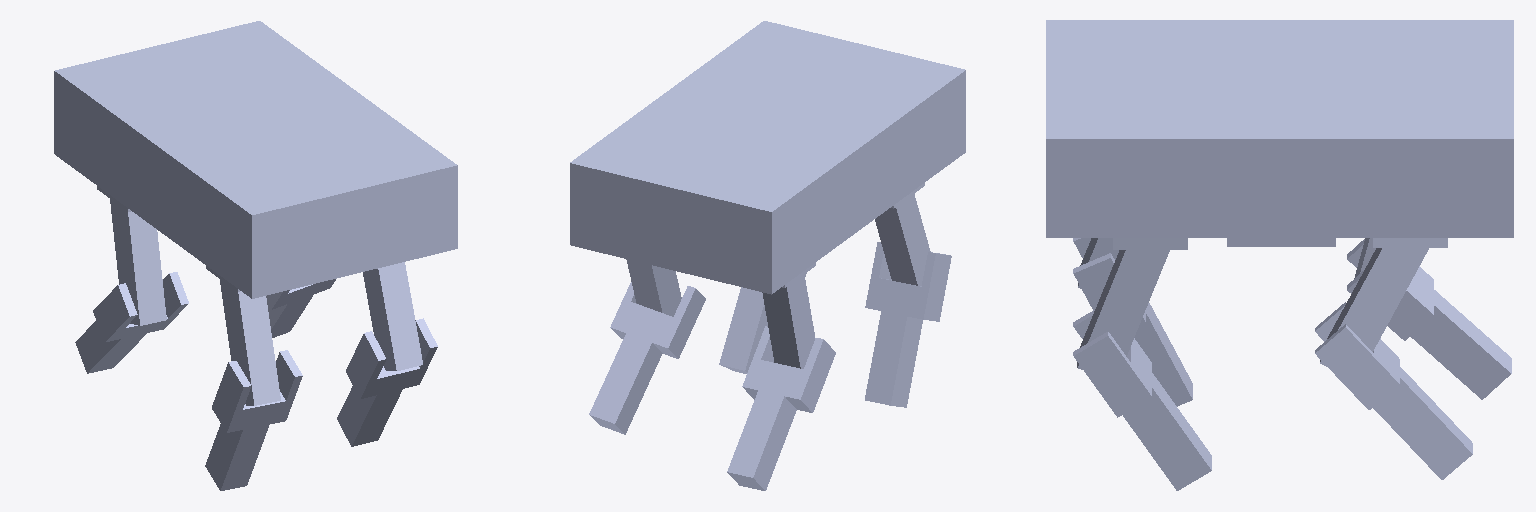
robot.urdf — robodog_urdf_collsion:
<?xml version="1.0" encoding="utf-8"?>
<!-- This URDF was automatically created by SolidWorks to URDF Exporter! Originally created by Stephen Brawner (brawner@gmail.com) 
     Commit Version: 1.6.0-4-g7f85cfe  Build Version: 1.6.7995.38578
     For more information, please see http://wiki.ros.org/sw_urdf_exporter -->
<robot
  name="robodog_urdf_collsion">
  <link
    name="Body">
    <inertial>
      <origin
        xyz="0.656315042885753 -1.42698788199037 0.96788826805334"
        rpy="0 0 0" />
      <mass
        value="13.33899" />
      <inertia
        ixx="0.230495999462513"
        ixy="7.89216602019238E-18"
        ixz="-6.54965176057633E-17"
        iyy="0.0931566012378579"
        iyz="6.00632234449707E-05"
        izz="0.294297217284655" />
    </inertial>
    <visual>
      <origin
        xyz="0 0 0"
        rpy="0 0 0" />
      <geometry>
        <mesh
          filename="package://robodog_urdf_collsion/meshes/Body.STL" />
      </geometry>
      <material
        name="">
        <color
          rgba="0.792156862745098 0.819607843137255 0.933333333333333 1" />
      </material>
    </visual>
    <collision>
      <origin
        xyz="0 0 0"
        rpy="0 0 0" />
      <geometry>
        <mesh
          filename="package://robodog_urdf_collsion/meshes/Body.STL" />
      </geometry>
    </collision>
  </link>
  <link
    name="LFshoulder">
    <inertial>
      <origin
        xyz="0.0128672643304147 0.000589435019002993 -0.051025000000001"
        rpy="0 0 0" />
      <mass
        value="0.489167999999999" />
      <inertia
        ixx="0.000465728699999998"
        ixy="6.92872950854018E-19"
        ixz="1.06626525887818E-19"
        iyy="0.000512811119999998"
        iyz="-1.82703620986546E-20"
        izz="0.000555898667999999" />
    </inertial>
    <visual>
      <origin
        xyz="0 0 0"
        rpy="0 0 0" />
      <geometry>
        <mesh
          filename="package://robodog_urdf_collsion/meshes/LFshoulder.STL" />
      </geometry>
      <material
        name="">
        <color
          rgba="0.792156862745098 0.819607843137255 0.933333333333333 1" />
      </material>
    </visual>
    <collision>
      <origin
        xyz="0 0 0"
        rpy="0 0 0" />
      <geometry>
        <mesh
          filename="package://robodog_urdf_collsion/meshes/LFshoulder.STL" />
      </geometry>
    </collision>
  </link>
  <joint
    name="LFshoulder1"
    type="revolute">
    <origin
      xyz="0.570945900830936 -1.35287827187371 0.934826982453758"
      rpy="1.5707963267949 0.0196982875803658 0" />
    <parent
      link="Body" />
    <child
      link="LFshoulder" />
    <axis
      xyz="0 0 1" />
    <limit
      lower="0"
      upper="3.1416"
      effort="100"
      velocity="2" />
  </joint>
  <link
    name="LFthigh">
    <inertial>
      <origin
        xyz="0.0254982854849833 -0.0688899494168162 -0.00389601324933975"
        rpy="0 0 0" />
      <mass
        value="0.2492" />
      <inertia
        ixx="0.000691197733333334"
        ixy="2.85960101617547E-17"
        ixz="1.70595341171479E-18"
        iyy="6.060295152346E-05"
        iyz="-3.47340080402073E-05"
        izz="0.000681473115143207" />
    </inertial>
    <visual>
      <origin
        xyz="0 0 0"
        rpy="0 0 0" />
      <geometry>
        <mesh
          filename="package://robodog_urdf_collsion/meshes/LFthigh.STL" />
      </geometry>
      <material
        name="">
        <color
          rgba="0.792156862745098 0.819607843137255 0.933333333333333 1" />
      </material>
    </visual>
    <collision>
      <origin
        xyz="0 0 0"
        rpy="0 0 0" />
      <geometry>
        <mesh
          filename="package://robodog_urdf_collsion/meshes/LFthigh.STL" />
      </geometry>
    </collision>
  </link>
  <joint
    name="LFshoulder"
    type="revolute">
    <origin
      xyz="-0.0301327296909215 -0.0274329941609744 -0.0544198791454942"
      rpy="-0.299813417529854 0 0" />
    <parent
      link="LFshoulder" />
    <child
      link="LFthigh" />
    <axis
      xyz="1 0 0" />
    <limit
      lower="0"
      upper="3.1416"
      effort="100"
      velocity="2" />
  </joint>
  <link
    name="LFcalf">
    <inertial>
      <origin
        xyz="0.0380257143547983 -0.0706643728174936 -3.90287802076728E-12"
        rpy="0 0 0" />
      <mass
        value="0.29688" />
      <inertia
        ixx="0.000707381737330648"
        ixy="-7.67749701874431E-06"
        ixz="-4.63910310211405E-16"
        iyy="0.00015277031938722"
        iyz="-3.38214428251965E-14"
        izz="0.000780984056717867" />
    </inertial>
    <visual>
      <origin
        xyz="0 0 0"
        rpy="0 0 0" />
      <geometry>
        <mesh
          filename="package://robodog_urdf_collsion/meshes/LFcalf.STL" />
      </geometry>
      <material
        name="">
        <color
          rgba="0.792156862745098 0.819607843137255 0.933333333333333 1" />
      </material>
    </visual>
    <collision>
      <origin
        xyz="0 0 0"
        rpy="0 0 0" />
      <geometry>
        <mesh
          filename="package://robodog_urdf_collsion/meshes/LFcalf.STL" />
      </geometry>
    </collision>
  </link>
  <joint
    name="LFknee"
    type="revolute">
    <origin
      xyz="-0.00980171466398216 -0.134770490422249 -0.00414664346573113"
      rpy="1.09162844050236 -0.0122810329987683 0.0063804086168105" />
    <parent
      link="LFthigh" />
    <child
      link="LFcalf" />
    <axis
      xyz="0.999904235859026 -0.0138390430007509 0" />
    <limit
      lower="0"
      upper="3.1416"
      effort="100"
      velocity="2" />
  </joint>
  <link
    name="LRshoulder">
    <inertial>
      <origin
        xyz="0.0128672643303579 0.000589435019047069 -0.0510250000000005"
        rpy="0 0 0" />
      <mass
        value="0.489168000000001" />
      <inertia
        ixx="0.000465728700000001"
        ixy="9.14795583034644E-20"
        ixz="5.59500282720448E-21"
        iyy="0.000512811120000001"
        iyz="-5.77292534666762E-20"
        izz="0.000555898668" />
    </inertial>
    <visual>
      <origin
        xyz="0 0 0"
        rpy="0 0 0" />
      <geometry>
        <mesh
          filename="package://robodog_urdf_collsion/meshes/LRshoulder.STL" />
      </geometry>
      <material
        name="">
        <color
          rgba="0.792156862745098 0.819607843137255 0.933333333333333 1" />
      </material>
    </visual>
    <collision>
      <origin
        xyz="0 0 0"
        rpy="0 0 0" />
      <geometry>
        <mesh
          filename="package://robodog_urdf_collsion/meshes/LRshoulder.STL" />
      </geometry>
    </collision>
  </link>
  <joint
    name="LRshoulder1"
    type="revolute">
    <origin
      xyz="0.570945900830937 -1.60267827187371 0.935026982453744"
      rpy="1.5707963267949 0.0400174430414714 0" />
    <parent
      link="Body" />
    <child
      link="LRshoulder" />
    <axis
      xyz="0 0 1" />
    <limit
      lower="0"
      upper="3.1416"
      effort="100"
      velocity="2" />
  </joint>
  <link
    name="LRthigh">
    <inertial>
      <origin
        xyz="0.0254951202002084 -0.0689999999992674 -0.000405736254840194"
        rpy="0 0 0" />
      <mass
        value="0.2492" />
      <inertia
        ixx="0.000691196250828442"
        ixy="5.74727498351787E-16"
        ixz="-1.07437465601925E-07"
        iyy="5.86658333333334E-05"
        iyz="4.14739264117817E-14"
        izz="0.000683411715838224" />
    </inertial>
    <visual>
      <origin
        xyz="0 0 0"
        rpy="0 0 0" />
      <geometry>
        <mesh
          filename="package://robodog_urdf_collsion/meshes/LRthigh.STL" />
      </geometry>
      <material
        name="">
        <color
          rgba="0.792156862745098 0.819607843137255 0.933333333333333 1" />
      </material>
    </visual>
    <collision>
      <origin
        xyz="0 0 0"
        rpy="0 0 0" />
      <geometry>
        <mesh
          filename="package://robodog_urdf_collsion/meshes/LRthigh.STL" />
      </geometry>
    </collision>
  </link>
  <joint
    name="LRshoulder"
    type="revolute">
    <origin
      xyz="-0.0301327356684378 -0.0274330026842688 -0.0544198791454948"
      rpy="-0.351880524820069 -0.0129525429896265 0.00475550056646328" />
    <parent
      link="LRshoulder" />
    <child
      link="LRthigh" />
    <axis
      xyz="0.999904810564791 0 -0.0137974566275661" />
    <limit
      lower="0"
      upper="3.1416"
      effort="100"
      velocity="2" />
  </joint>
  <link
    name="LRcalf">
    <inertial>
      <origin
        xyz="0.0365507224106867 -0.0684957299357738 5.98698868259362E-12"
        rpy="0 0 0" />
      <mass
        value="0.29688" />
      <inertia
        ixx="0.000706764702405613"
        ixy="-2.00194366321154E-05"
        ixz="7.83505476210228E-21"
        iyy="0.000153387354312252"
        iyz="-2.27004829864152E-19"
        izz="0.000780984056717865" />
    </inertial>
    <visual>
      <origin
        xyz="0 0 0"
        rpy="0 0 0" />
      <geometry>
        <mesh
          filename="package://robodog_urdf_collsion/meshes/LRcalf.STL" />
      </geometry>
      <material
        name="">
        <color
          rgba="0.792156862745098 0.819607843137255 0.933333333333333 1" />
      </material>
    </visual>
    <collision>
      <origin
        xyz="0 0 0"
        rpy="0 0 0" />
      <geometry>
        <mesh
          filename="package://robodog_urdf_collsion/meshes/LRcalf.STL" />
      </geometry>
    </collision>
  </link>
  <joint
    name="LRknee"
    type="revolute">
    <origin
      xyz="-0.00975435686101289 -0.134792281202544 0.00349920927487379"
      rpy="0.797443607909227 -0.0120453146783953 0.025226531571006" />
    <parent
      link="LRthigh" />
    <child
      link="LRcalf" />
    <axis
      xyz="0.999347964148459 -0.0361060459248811 0" />
    <limit
      lower="0"
      upper="3.1416"
      effort="100"
      velocity="2" />
  </joint>
  <link
    name="RFshoulder">
    <inertial>
      <origin
        xyz="-0.0128672637142879 0.000589435899092883 -0.051025000004878"
        rpy="0 0 0" />
      <mass
        value="0.489168000000001" />
      <inertia
        ixx="0.000465728700000001"
        ixy="1.35525271560689E-20"
        ixz="-5.71042671202383E-20"
        iyy="0.000512811120000001"
        iyz="-1.20029841504055E-19"
        izz="0.000555898668000001" />
    </inertial>
    <visual>
      <origin
        xyz="0 0 0"
        rpy="0 0 0" />
      <geometry>
        <mesh
          filename="package://robodog_urdf_collsion/meshes/RFshoulder.STL" />
      </geometry>
      <material
        name="">
        <color
          rgba="0.792156862745098 0.819607843137255 0.933333333333333 1" />
      </material>
    </visual>
    <collision>
      <origin
        xyz="0 0 0"
        rpy="0 0 0" />
      <geometry>
        <mesh
          filename="package://robodog_urdf_collsion/meshes/RFshoulder.STL" />
      </geometry>
    </collision>
  </link>
  <joint
    name="RFshoulder1"
    type="revolute">
    <origin
      xyz="0.741284184425224 -1.35287827187859 0.935826981513804"
      rpy="1.5707963267949 -0.116458893368777 0" />
    <parent
      link="Body" />
    <child
      link="RFshoulder" />
    <axis
      xyz="0 0 1" />
    <limit
      lower="0"
      upper="3.1416"
      effort="100"
      velocity="2" />
  </joint>
  <link
    name="RFthigh">
    <inertial>
      <origin
        xyz="-0.0254982914637072 -0.0688899412750559 -0.00389601073305124"
        rpy="0 0 0" />
      <mass
        value="0.2492" />
      <inertia
        ixx="0.000691197733333334"
        ixy="2.43430286932797E-19"
        ixz="8.39316216871926E-21"
        iyy="6.06029515254305E-05"
        iyz="-3.47340080578187E-05"
        izz="0.000681473115141237" />
    </inertial>
    <visual>
      <origin
        xyz="0 0 0"
        rpy="0 0 0" />
      <geometry>
        <mesh
          filename="package://robodog_urdf_collsion/meshes/RFthigh.STL" />
      </geometry>
      <material
        name="">
        <color
          rgba="0.792156862745098 0.819607843137255 0.933333333333333 1" />
      </material>
    </visual>
    <collision>
      <origin
        xyz="0 0 0"
        rpy="0 0 0" />
      <geometry>
        <mesh
          filename="package://robodog_urdf_collsion/meshes/RFthigh.STL" />
      </geometry>
    </collision>
  </link>
  <joint
    name="RFshoulder"
    type="revolute">
    <origin
      xyz="0.0301327362857123 -0.0274330018034438 -0.0544198791517472"
      rpy="-0.532538206704609 0 0" />
    <parent
      link="RFshoulder" />
    <child
      link="RFthigh" />
    <axis
      xyz="-1 0 0" />
    <limit
      lower="0"
      upper="3.1416"
      effort="100"
      velocity="2" />
  </joint>
  <link
    name="RFcalf">
    <inertial>
      <origin
        xyz="0.0446679026141887 -0.0635011716946567 1.15515375043174E-11"
        rpy="0 0 0" />
      <mass
        value="0.29688" />
      <inertia
        ixx="0.000703325790404221"
        ixy="4.78744997986509E-05"
        ixz="-3.98105485209521E-20"
        iyy="0.000156826266313645"
        iyz="-1.6940658945086E-19"
        izz="0.000780984056717866" />
    </inertial>
    <visual>
      <origin
        xyz="0 0 0"
        rpy="0 0 0" />
      <geometry>
        <mesh
          filename="package://robodog_urdf_collsion/meshes/RFcalf.STL" />
      </geometry>
      <material
        name="">
        <color
          rgba="0.792156862745098 0.819607843137255 0.933333333333333 1" />
      </material>
    </visual>
    <collision>
      <origin
        xyz="0 0 0"
        rpy="0 0 0" />
      <geometry>
        <mesh
          filename="package://robodog_urdf_collsion/meshes/RFcalf.STL" />
      </geometry>
    </collision>
  </link>
  <joint
    name="RFknee"
    type="revolute">
    <origin
      xyz="-0.0688982914610579 -0.135741088960878 -0.00470154872110706"
      rpy="1.26448646773067 0.0827040505725701 -0.0261205230131198" />
    <parent
      link="RFthigh" />
    <child
      link="RFcalf" />
    <axis
      xyz="0.996242013440497 0.0866132244869372 0" />
    <limit
      lower="0"
      upper="3.1416"
      effort="100"
      velocity="2" />
  </joint>
  <link
    name="RRshoulder">
    <inertial>
      <origin
        xyz="-0.0128672523166276 0.00058880594426669 -0.0510249999988288"
        rpy="0 0 0" />
      <mass
        value="0.489168000000001" />
      <inertia
        ixx="0.000465728700000001"
        ixy="7.30858672769229E-17"
        ixz="-1.62418813149374E-19"
        iyy="0.000512811120000001"
        iyz="-1.62452502582778E-23"
        izz="0.000555898668000001" />
    </inertial>
    <visual>
      <origin
        xyz="0 0 0"
        rpy="0 0 0" />
      <geometry>
        <mesh
          filename="package://robodog_urdf_collsion/meshes/RRshoulder.STL" />
      </geometry>
      <material
        name="">
        <color
          rgba="0.792156862745098 0.819607843137255 0.933333333333333 1" />
      </material>
    </visual>
    <collision>
      <origin
        xyz="0 0 0"
        rpy="0 0 0" />
      <geometry>
        <mesh
          filename="package://robodog_urdf_collsion/meshes/RRshoulder.STL" />
      </geometry>
    </collision>
  </link>
  <joint
    name="RRshoulder1"
    type="revolute">
    <origin
      xyz="0.741284184939486 -1.60267827187254 0.93582698245478"
      rpy="1.5707963267949 -0.00197974243496481 0" />
    <parent
      link="Body" />
    <child
      link="RRshoulder" />
    <axis
      xyz="0 0 1" />
    <limit
      lower="0"
      upper="3.1416"
      effort="100"
      velocity="2" />
  </joint>
  <link
    name="RRthigh">
    <inertial>
      <origin
        xyz="-0.0254982914637067 -0.0688899412742833 -0.00389601073556212"
        rpy="0 0 0" />
      <mass
        value="0.2492" />
      <inertia
        ixx="0.000691197733333334"
        ixy="9.7858676908256E-20"
        ixz="-8.69205797058431E-21"
        iyy="6.06029515267687E-05"
        iyz="-3.473400806978E-05"
        izz="0.000681473115139899" />
    </inertial>
    <visual>
      <origin
        xyz="0 0 0"
        rpy="0 0 0" />
      <geometry>
        <mesh
          filename="package://robodog_urdf_collsion/meshes/RRthigh.STL" />
      </geometry>
      <material
        name="">
        <color
          rgba="0.792156862745098 0.819607843137255 0.933333333333333 1" />
      </material>
    </visual>
    <collision>
      <origin
        xyz="0 0 0"
        rpy="0 0 0" />
      <geometry>
        <mesh
          filename="package://robodog_urdf_collsion/meshes/RRthigh.STL" />
      </geometry>
    </collision>
  </link>
  <joint
    name="RRshoulder"
    type="revolute">
    <origin
      xyz="0.0301327476833291 -0.0274336317583368 -0.0544198791443231"
      rpy="-0.41088066331925 0 0" />
    <parent
      link="RRshoulder" />
    <child
      link="RRthigh" />
    <axis
      xyz="-1 0 0" />
    <limit
      lower="0"
      upper="3.1416"
      effort="100"
      velocity="2" />
  </joint>
  <link
    name="RRcalf">
    <inertial>
      <origin
        xyz="0.0391163112226409 -0.070066559232018 3.31956684362922E-14"
        rpy="0 0 0" />
      <mass
        value="0.29688" />
      <inertia
        ixx="0.000707486469240969"
        ixy="9.20585907105823E-07"
        ixz="-6.24188703522392E-17"
        iyy="0.000152665587476898"
        iyz="-2.03287907341032E-19"
        izz="0.000780984056717866" />
    </inertial>
    <visual>
      <origin
        xyz="0 0 0"
        rpy="0 0 0" />
      <geometry>
        <mesh
          filename="package://robodog_urdf_collsion/meshes/RRcalf.STL" />
      </geometry>
      <material
        name="">
        <color
          rgba="0.792156862745098 0.819607843137255 0.933333333333333 1" />
      </material>
    </visual>
    <collision>
      <origin
        xyz="0 0 0"
        rpy="0 0 0" />
      <geometry>
        <mesh
          filename="package://robodog_urdf_collsion/meshes/RRcalf.STL" />
      </geometry>
    </collision>
  </link>
  <joint
    name="RRknee"
    type="revolute">
    <origin
      xyz="-0.0688982914637077 -0.135741088974963 -0.00470154873367146"
      rpy="0.98786695154766 0.00138522533060249 -0.000913366210097348" />
    <parent
      link="RRthigh" />
    <child
      link="RRcalf" />
    <axis
      xyz="-0.999998623453971 -0.00165924385306817 0" />
    <limit
      lower="0"
      upper="3.1416"
      effort="100"
      velocity="2" />
  </joint>
</robot>

--- What the picture shows (computed from the rendered views, not written in the file) ---
3 views of the same robot in one strip: view 1: azimuth 30°, elevation 25°; view 2: azimuth 150°, elevation 25°; view 3: azimuth 270°, elevation 25° (orthographic).
Model robodog_urdf_collsion with 13 links and 12 joints (12 revolute), rooted at Body, posed all joints at 0.
Links seen in each view (by area): view 1: Body, LRcalf, RRcalf, LFcalf, LRthigh, LFthigh, RRthigh, RFcalf; view 2: Body, LFcalf, LRcalf, RFcalf, LFthigh, LRthigh, RRcalf, RFthigh; view 3: Body, RFcalf, RRcalf, LFcalf, RFthigh, RRthigh, LRcalf, RRshoulder, RFshoulder, LRthigh.
Link boxes in pixels (bbox=[...]): Body: bbox=[54, 21, 457, 298]; LRcalf: bbox=[205, 350, 302, 490]; RRcalf: bbox=[337, 318, 437, 446]; LFcalf: bbox=[75, 272, 188, 373]; LRthigh: bbox=[220, 279, 280, 405]; LFthigh: bbox=[110, 199, 166, 325]; RRthigh: bbox=[363, 262, 422, 370]; RFcalf: bbox=[266, 279, 335, 337]; Body: bbox=[570, 21, 965, 294]; LFcalf: bbox=[727, 326, 835, 490]; LRcalf: bbox=[865, 242, 951, 407]; RFcalf: bbox=[589, 282, 705, 434]; LFthigh: bbox=[762, 274, 814, 368]; LRthigh: bbox=[875, 194, 930, 285]; RRcalf: bbox=[719, 273, 806, 373]; RFthigh: bbox=[626, 259, 681, 316]; Body: bbox=[1046, 20, 1513, 246]; RFcalf: bbox=[1315, 302, 1472, 479]; RRcalf: bbox=[1073, 310, 1211, 490]; LFcalf: bbox=[1347, 239, 1511, 399]; RFthigh: bbox=[1320, 248, 1428, 366]; RRthigh: bbox=[1077, 250, 1169, 369]; LRcalf: bbox=[1073, 238, 1192, 406]; RRshoulder: bbox=[1113, 238, 1187, 249]; RFshoulder: bbox=[1373, 238, 1447, 247]; LRthigh: bbox=[1078, 238, 1118, 288].
Bounding box of the posed robot: 0.2823 × 0.45 × 0.3947 m (x, y, z).
Meshes: 13 distinct files referenced, 13 mesh visuals loaded (13 binary STL).
